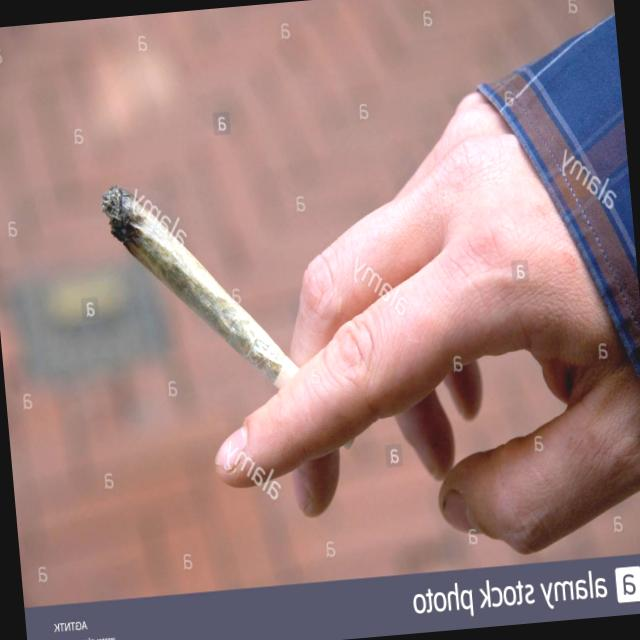cigarette: (95, 173, 298, 400)
